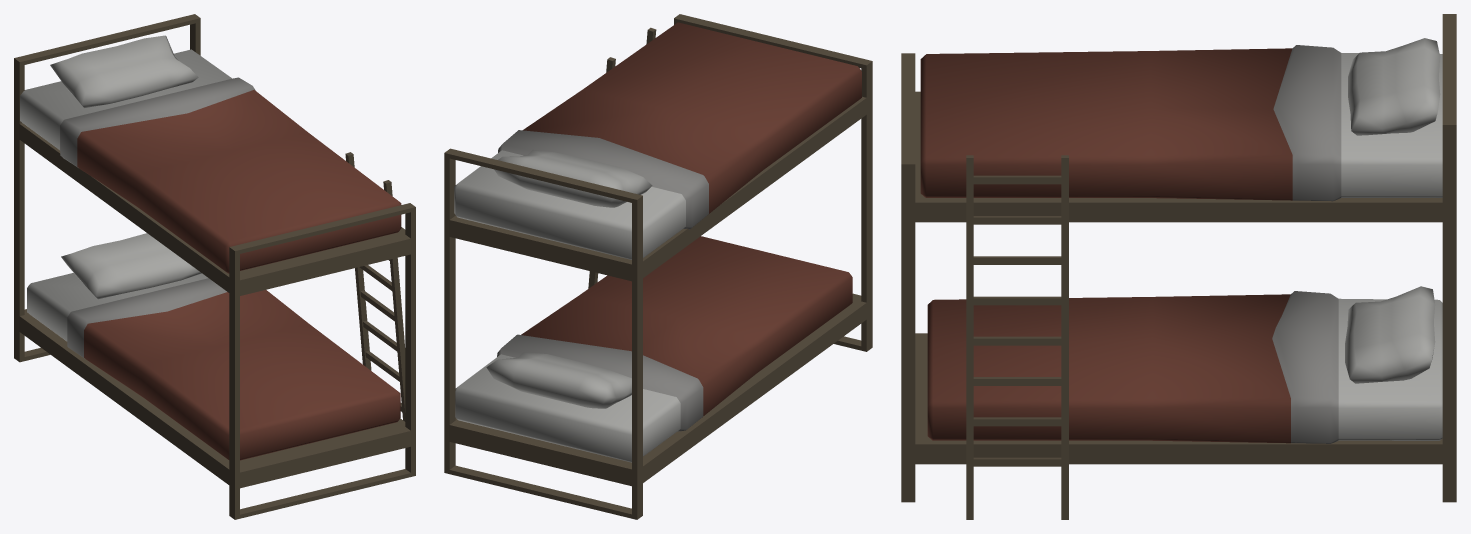
The model's file is Bed_Bunk.glb.
3 views of the same model, side by side, from view 1: azimuth 30°, elevation 25°; view 2: azimuth 150°, elevation 25°; view 3: azimuth 270°, elevation 25° (orthographic). The views are drawn at different scales.
Visible parts, largest first — view 1: Bed_Bunk; view 2: Bed_Bunk; view 3: Bed_Bunk.
Part boxes in pixels (x1,y1,x2,y2): Bed_Bunk: (14,14,415,519); Bed_Bunk: (444,14,872,519); Bed_Bunk: (901,14,1456,519).
Size of the model in its own units: 1.06 by 1.48 by 1.95.
Materials: 4 (4 with a texture image).
